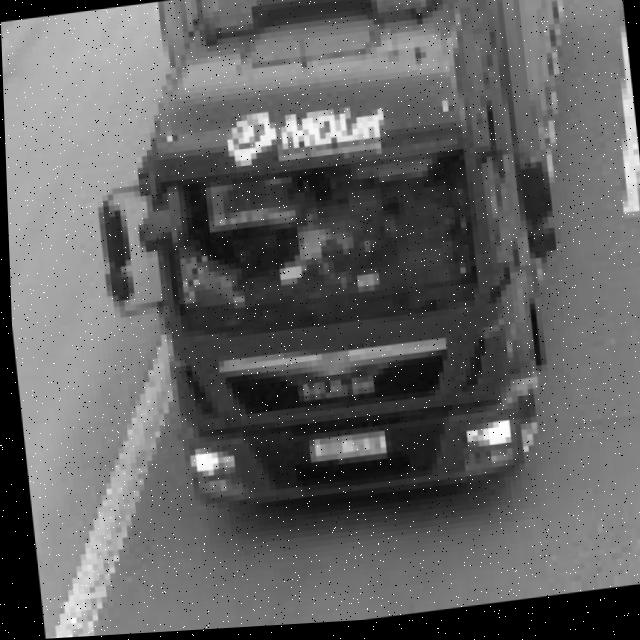truck: (82, 1, 585, 539)
